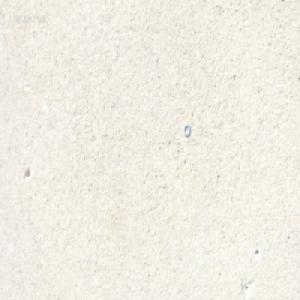Washer: (182, 122, 190, 137)
